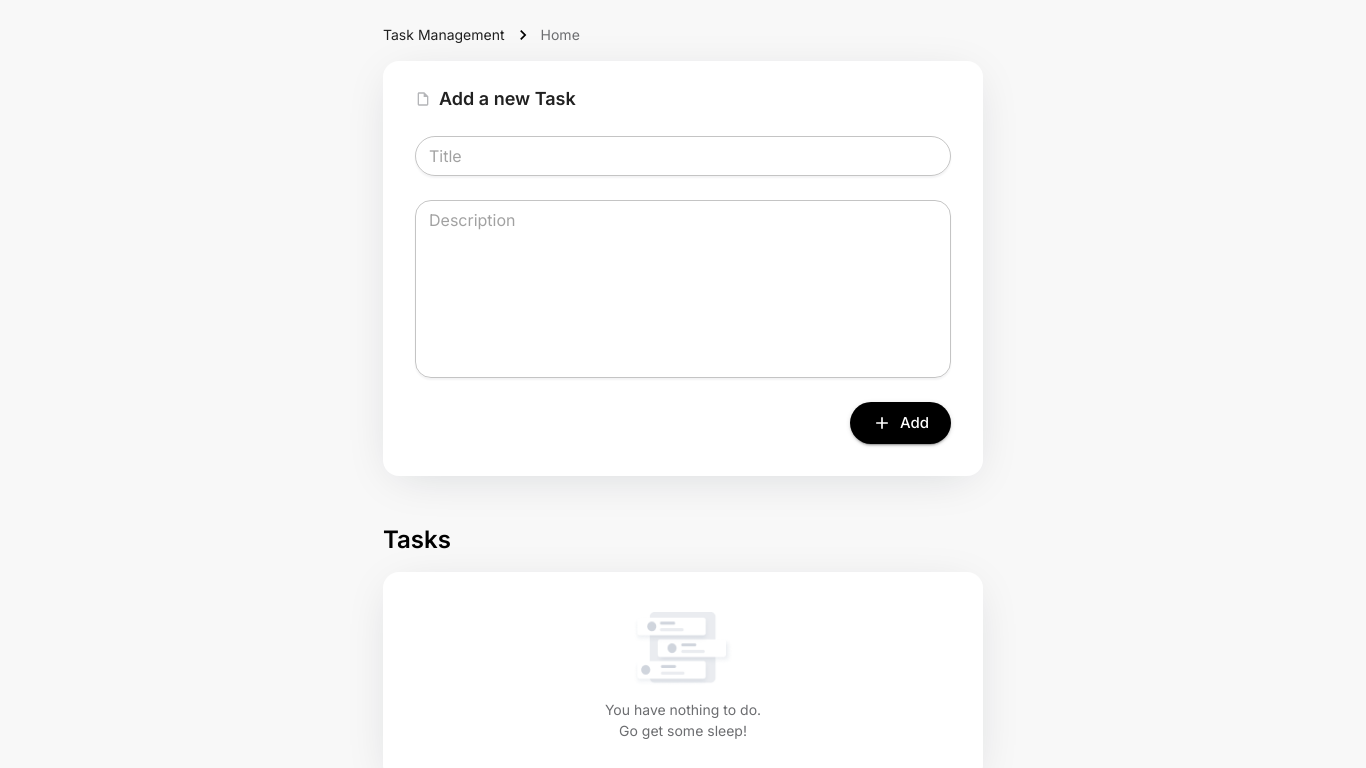
Test: task history › a newly created task has only one entry and it's "todo"
Type "A title" into the field labelled "Title" at (683, 156), box [415,136,951,176]
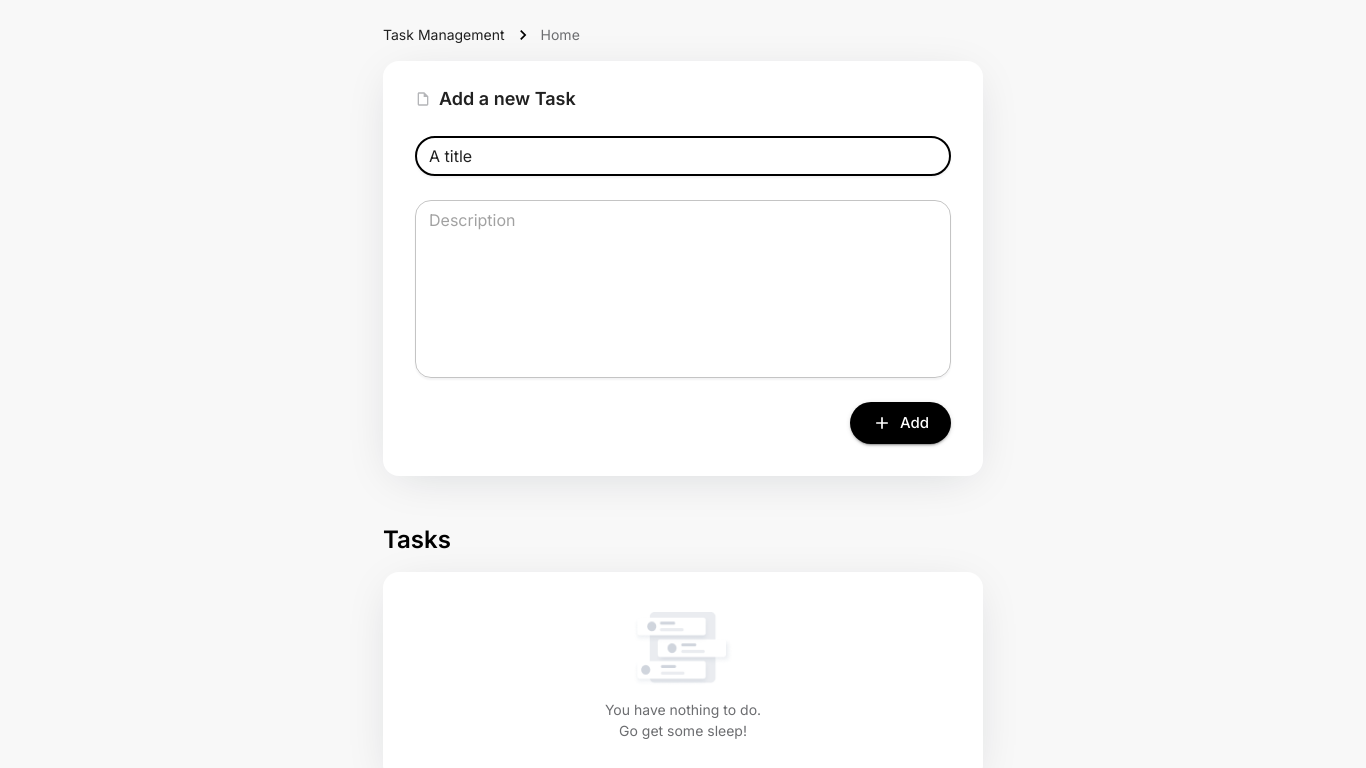
Type "A description" into the text box labelled "Description" at (683, 290), box [429,209,937,370]
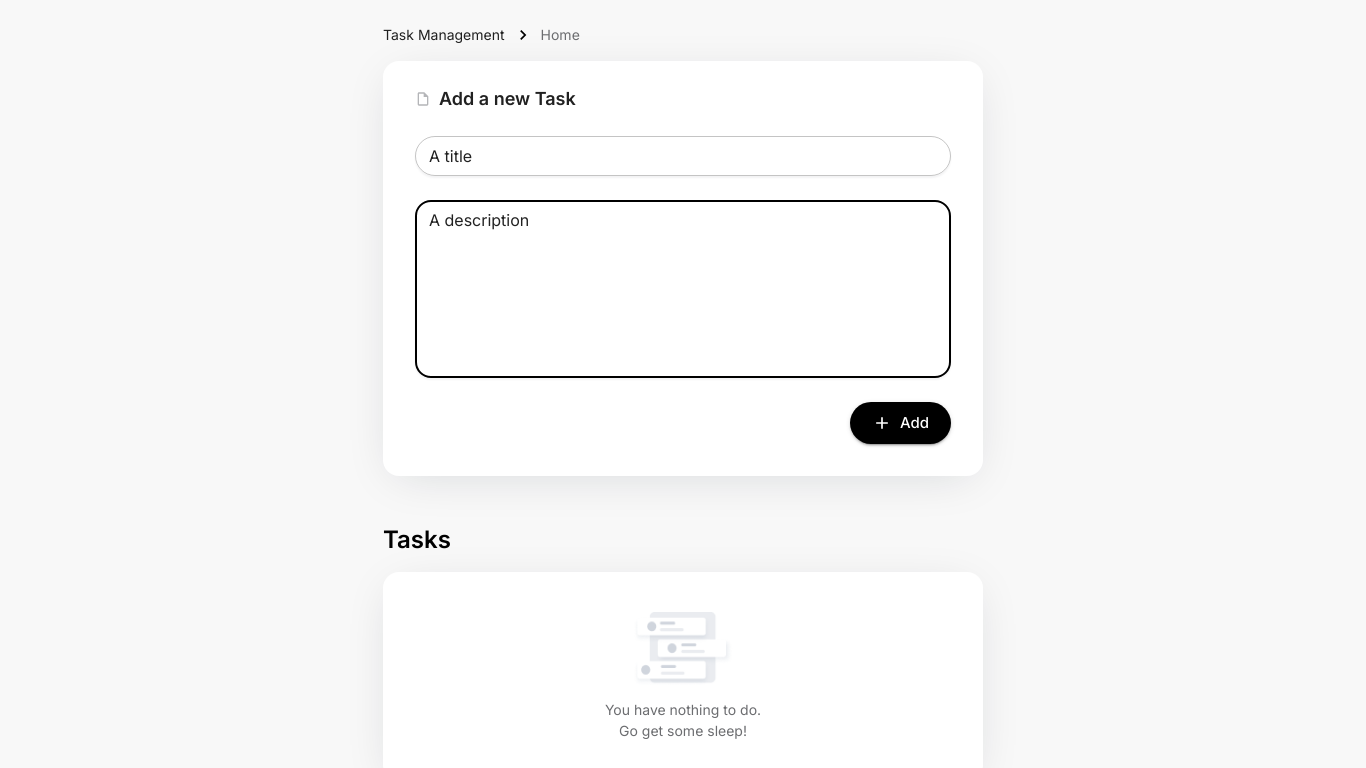
Click the button with id "create-task-button" at (901, 423), box [850,402,951,444]
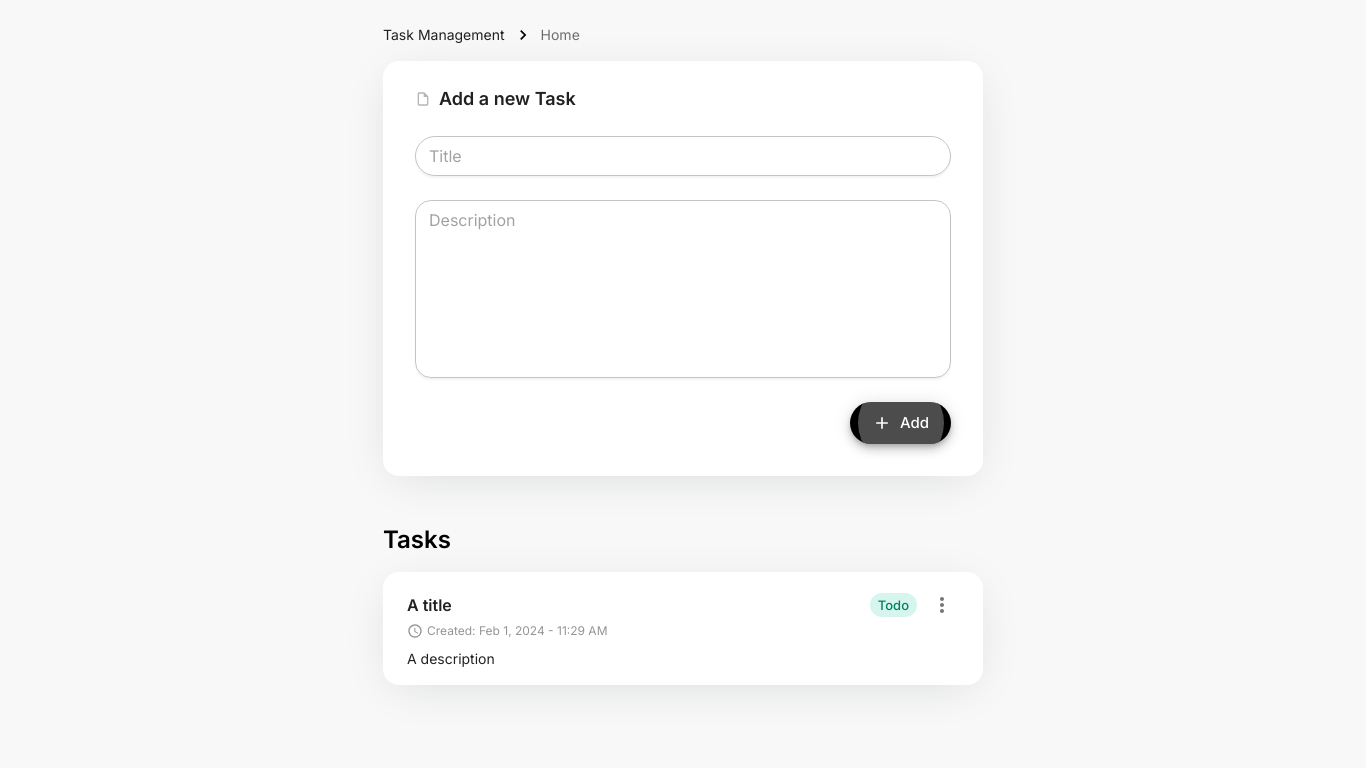
Open "localhost:5173"
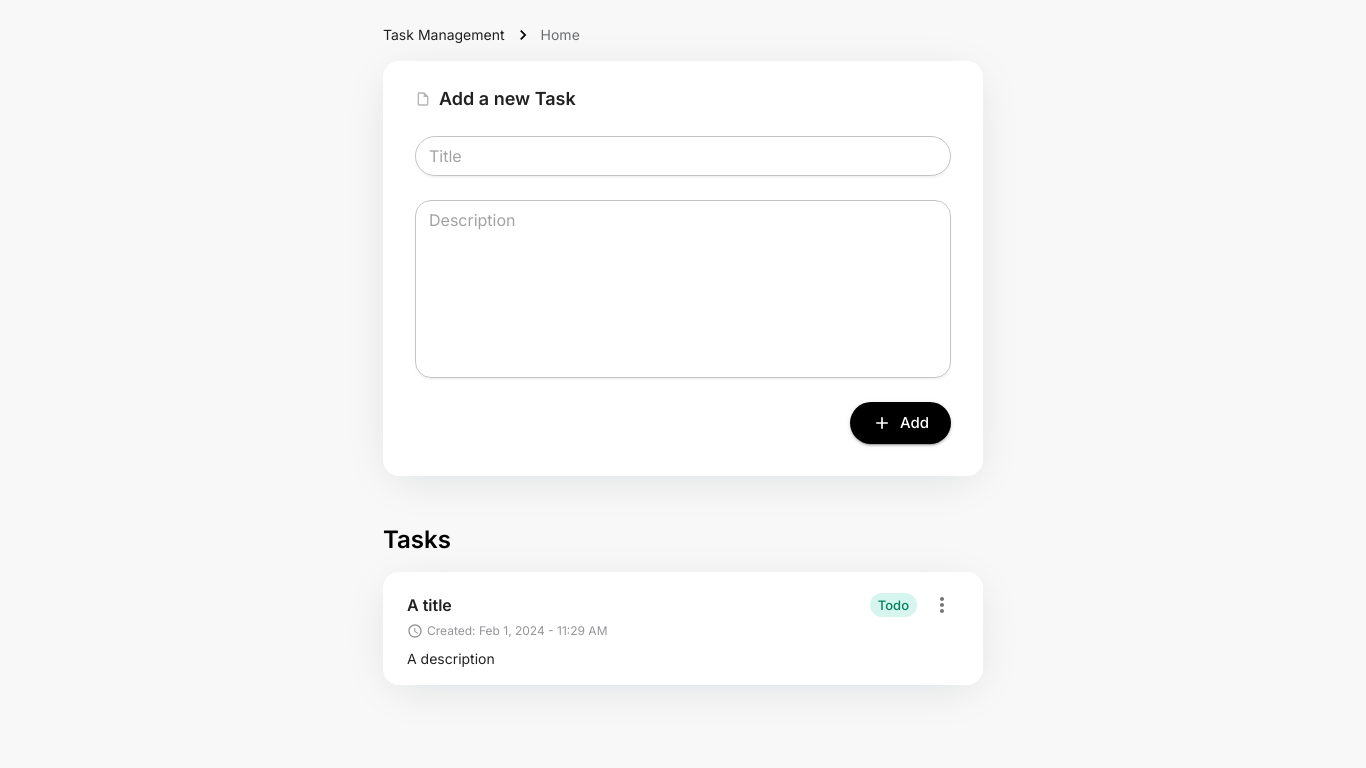
Click the icon with test id "MoreVertIcon" at (942, 605), box [930,593,954,617]
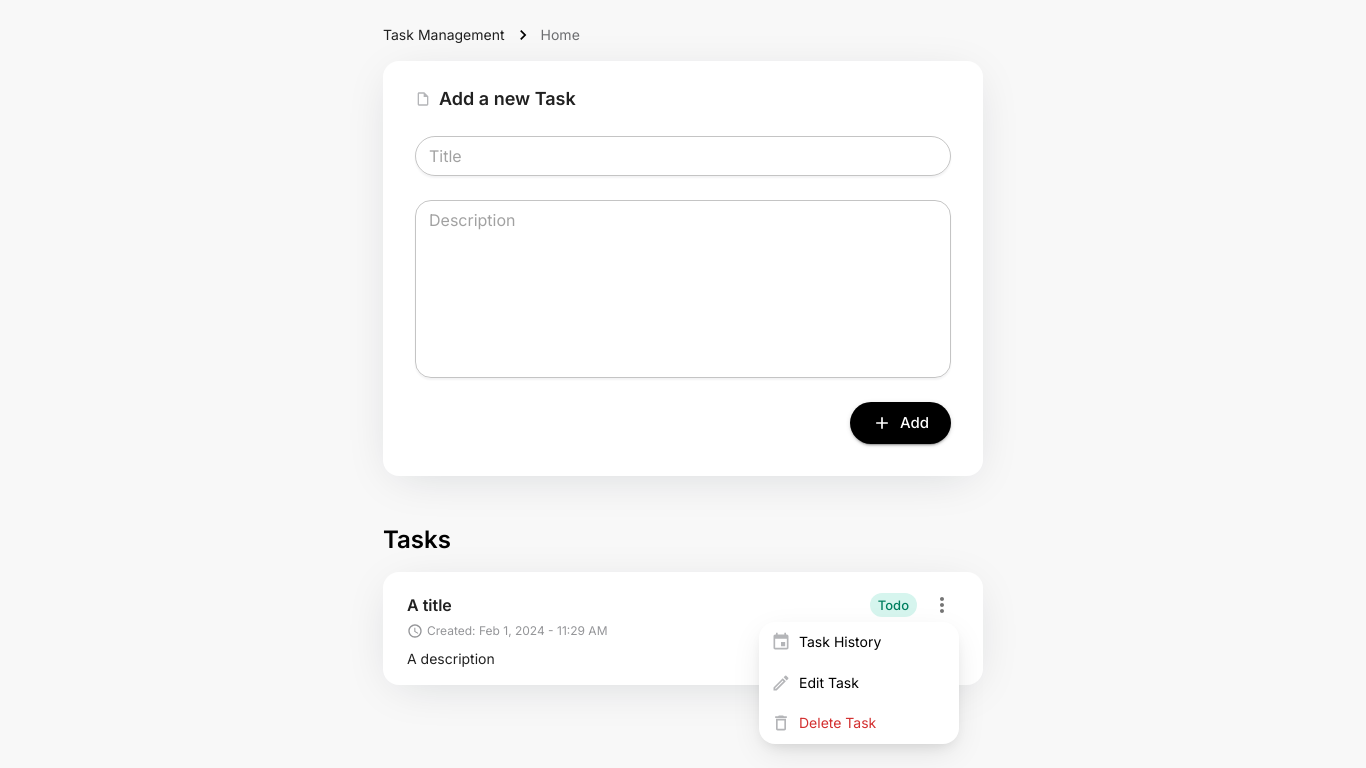
Click the button "Task History" at (859, 643), box [759,622,959,663]
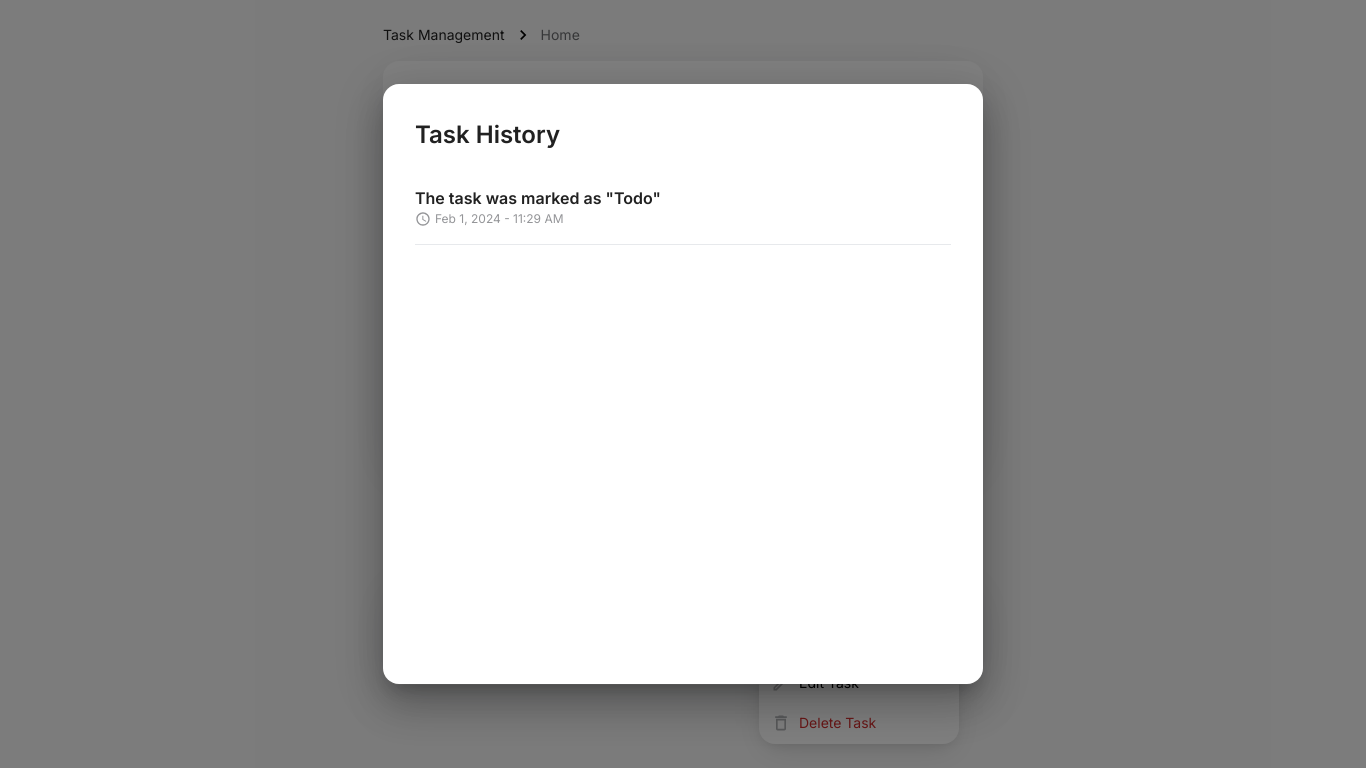
expect the element with test id "task-history-dialog" is shown: met
expect the text "The task was marked as \"Todo\"" is shown: met, box [415,188,661,208]
